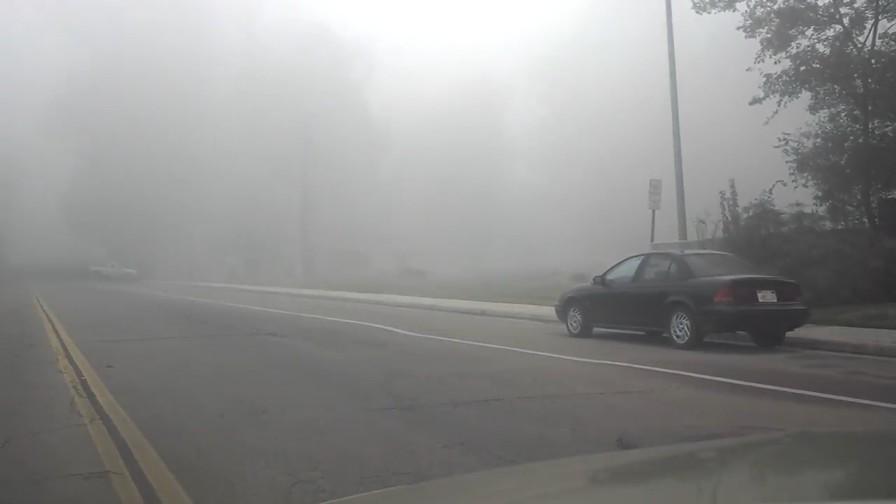car: (554, 248, 812, 349), (88, 261, 137, 281)
